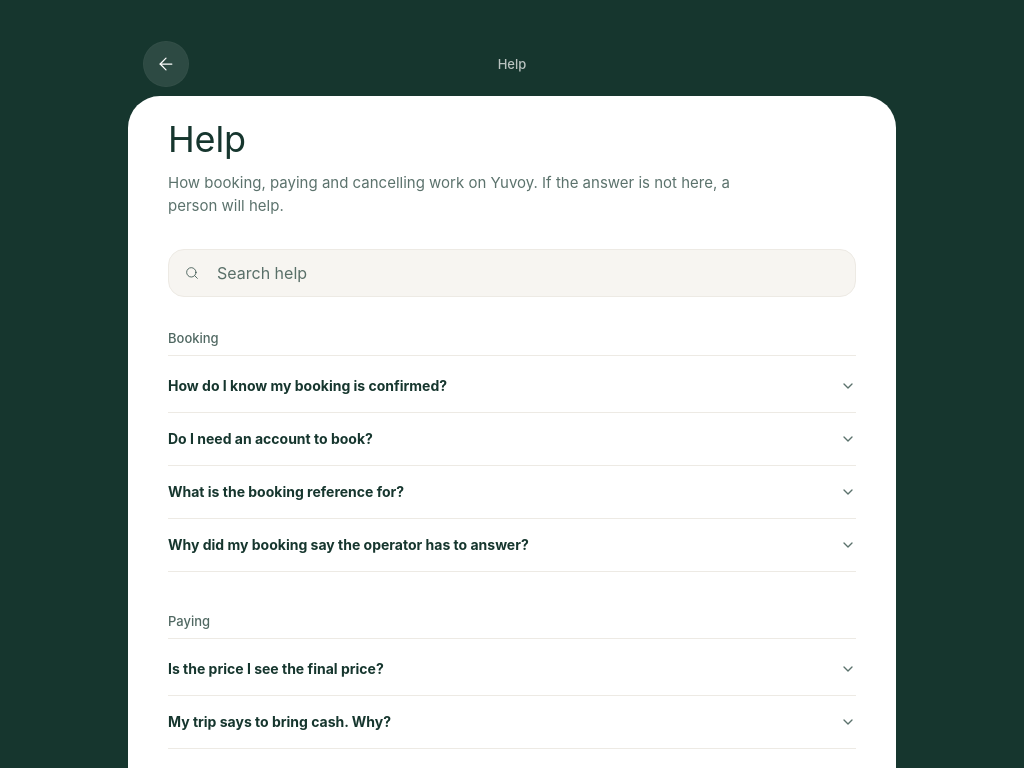
Test case: search › narrows to what matches and says how many
Step 1. Type "cancel" into the search field → (512, 273), box [168, 249, 856, 297]
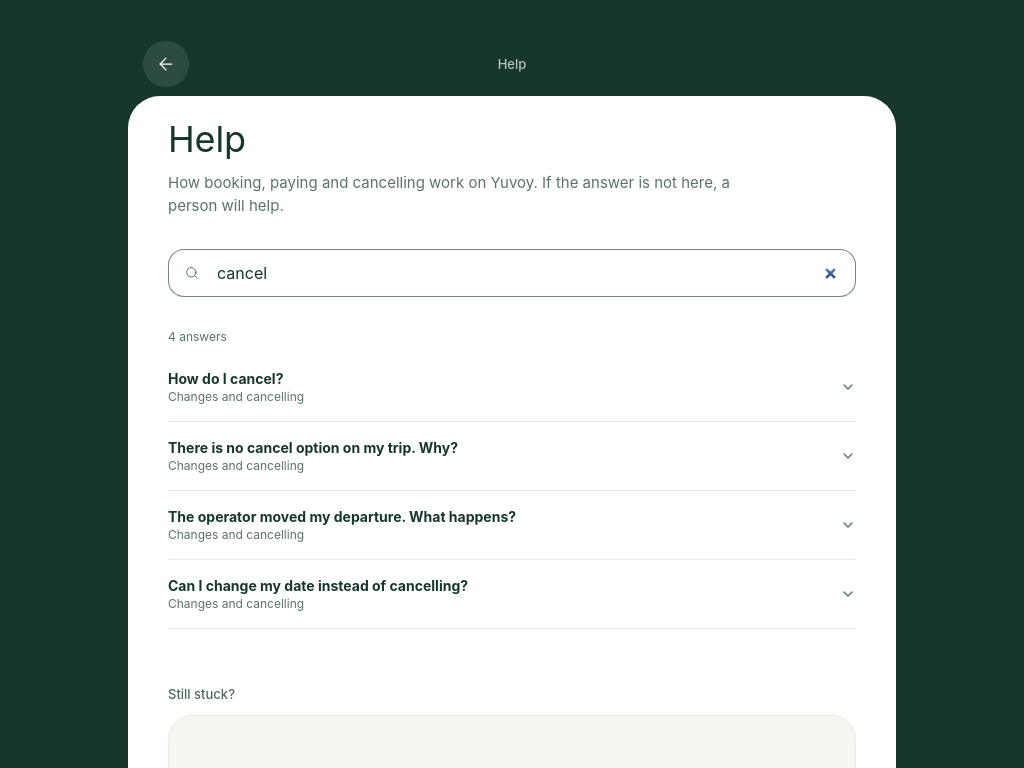
Now the message reads "4 answers", box [168, 329, 227, 344]
